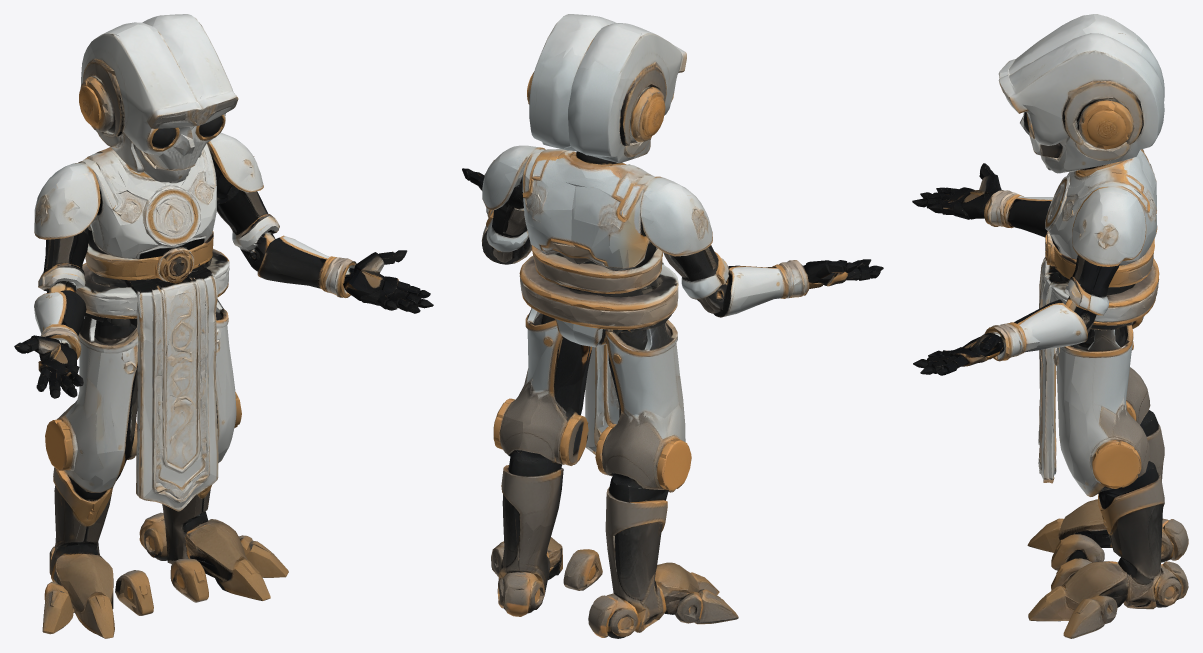
File: lector.glb
3 renders of one model, left to right at view 1: azimuth 30°, elevation 25°; view 2: azimuth 150°, elevation 25°; view 3: azimuth 270°, elevation 25°, orthographic. The views are drawn at different scales.
Visible parts, largest first — view 1: mesh_node; view 2: mesh_node; view 3: mesh_node.
Part boxes in pixels (x1,y1,x2,y2): mesh_node: [14, 14, 433, 638]; mesh_node: [462, 14, 883, 638]; mesh_node: [912, 14, 1188, 638].
Size of the model in its own units: 1.36 by 1.9 by 0.8603.
1 material, 1 textured.
